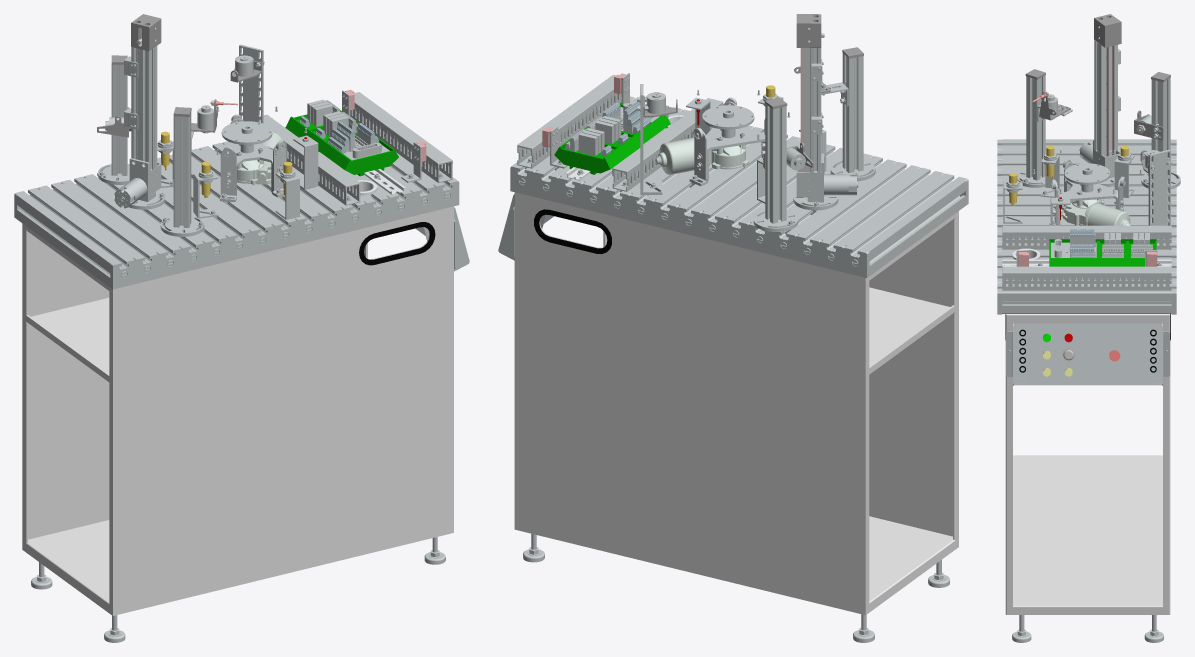
The model's file is tramBanXoayThieu.glb.
The picture shows the model from 3 angles, left to right: view 1: azimuth 30°, elevation 25°; view 2: azimuth 150°, elevation 25°; view 3: azimuth 270°, elevation 25°; orthographic projection. The views are drawn at different scales.
Visible parts, largest first — view 1: Ban_thi_nghiem, GNFS8_50100_350 Ban do thep, HFSB8_5050_350, Rail-nhua-350 (×2), prt0002_stp381451, HFS6-3030-230_2_9869, PRT00043821, THANH-RAY-DC-3M69002, _VO-MACH0001_NX_PRT4762, GiaDoTron-st_stp121, Ban_thi_nghiem-Dem, Motor-DCK31-Right-KGK119 (+7 smaller); view 2: Ban_thi_nghiem, GNFS8_50100_350 Ban do thep, HFSB8_5050_350 (×2), Rail-nhua-350 (×2), PRT00043821, HFS6-3030-230_2_9869, Motor-DCK31-Right-KGK119, _VO-MACH-3RELAYS_NX0001_NX_PRT19670, GiaDoTron-st_stp121, prt0002_stp381451, Ban_thi_nghiem-Dem, TruTamGiac-st_stp120 (+4 smaller); view 3: Ban_thi_nghiem, GNFS8_50100_350 Ban do thep, Bang_dieu_khien_chuan, Rail-nhua-350 (×2), HFSB8_5050_350 (×2), HFS6-3030-230_2_9869, mang-dan-st_stp387457, THANH-RAY-DC-3M69002, Motor-DCK31-Right-KGK119, PRT00043821, thanh-chu-u-diendung_stp70 (×3), GiaDoTron-st_stp121 (+11 smaller).
Boxes of the visible parts, x1=… form: Ban_thi_nghiem: x1=22, y1=206, x2=453, y2=615; GNFS8_50100_350 Ban do thep: x1=17, y1=123, x2=455, y2=287; HFSB8_5050_350: x1=110, y1=179, x2=459, y2=289; Rail-nhua-350 (×2): x1=260, y1=92, x2=452, y2=205; prt0002_stp381451: x1=131, y1=47, x2=154, y2=171; HFS6-3030-230_2_9869: x1=173, y1=111, x2=191, y2=227; PRT00043821: x1=111, y1=64, x2=127, y2=175; THANH-RAY-DC-3M69002: x1=239, y1=44, x2=263, y2=123; _VO-MACH0001_NX_PRT4762: x1=318, y1=133, x2=398, y2=176; GiaDoTron-st_stp121: x1=221, y1=121, x2=272, y2=152; Ban_thi_nghiem-Dem: x1=359, y1=222, x2=435, y2=265; Motor-DCK31-Right-KGK119: x1=237, y1=132, x2=283, y2=185; Ban_thi_nghiem: x1=514, y1=192, x2=958, y2=615; GNFS8_50100_350 Ban do thep: x1=514, y1=99, x2=965, y2=275; HFSB8_5050_350 (×2): x1=510, y1=94, x2=968, y2=277; Rail-nhua-350 (×2): x1=517, y1=75, x2=723, y2=191; PRT00043821: x1=765, y1=104, x2=786, y2=223; HFS6-3030-230_2_9869: x1=842, y1=53, x2=863, y2=172; Motor-DCK31-Right-KGK119: x1=655, y1=137, x2=748, y2=174; _VO-MACH-3RELAYS_NX0001_NX_PRT19670: x1=554, y1=139, x2=626, y2=174; GiaDoTron-st_stp121: x1=702, y1=105, x2=754, y2=137; prt0002_stp381451: x1=810, y1=48, x2=821, y2=172; Ban_thi_nghiem-Dem: x1=534, y1=209, x2=611, y2=254; TruTamGiac-st_stp120: x1=689, y1=127, x2=765, y2=186; Ban_thi_nghiem: x1=1005, y1=314, x2=1170, y2=614; GNFS8_50100_350 Ban do thep: x1=1002, y1=139, x2=1171, y2=313; Bang_dieu_khien_chuan: x1=1005, y1=323, x2=1170, y2=385; Rail-nhua-350 (×2): x1=1002, y1=225, x2=1171, y2=290; HFSB8_5050_350 (×2): x1=997, y1=139, x2=1176, y2=314; HFS6-3030-230_2_9869: x1=1026, y1=75, x2=1045, y2=180; mang-dan-st_stp387457: x1=1099, y1=43, x2=1117, y2=154; THANH-RAY-DC-3M69002: x1=1148, y1=149, x2=1170, y2=239; Motor-DCK31-Right-KGK119: x1=1062, y1=199, x2=1130, y2=225; PRT00043821: x1=1151, y1=77, x2=1170, y2=179; thanh-chu-u-diendung_stp70 (×3): x1=1003, y1=155, x2=1134, y2=223; GiaDoTron-st_stp121: x1=1064, y1=163, x2=1110, y2=191.
Size of the model in its own units: 0.7915 by 1.17 by 0.3792.
